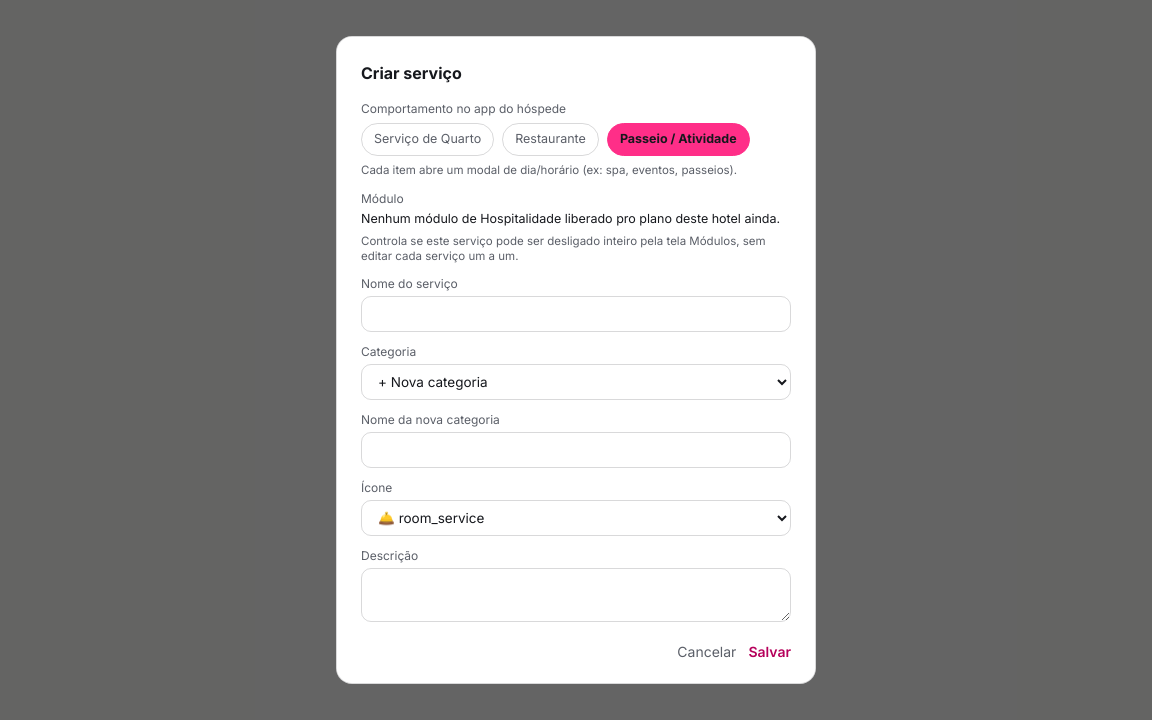
ServiceFormDialog › requires selecting a module before creating a new service
Type "Spa" into the field labelled "Nome do serviço" at [576, 314], box [361, 296, 791, 332]
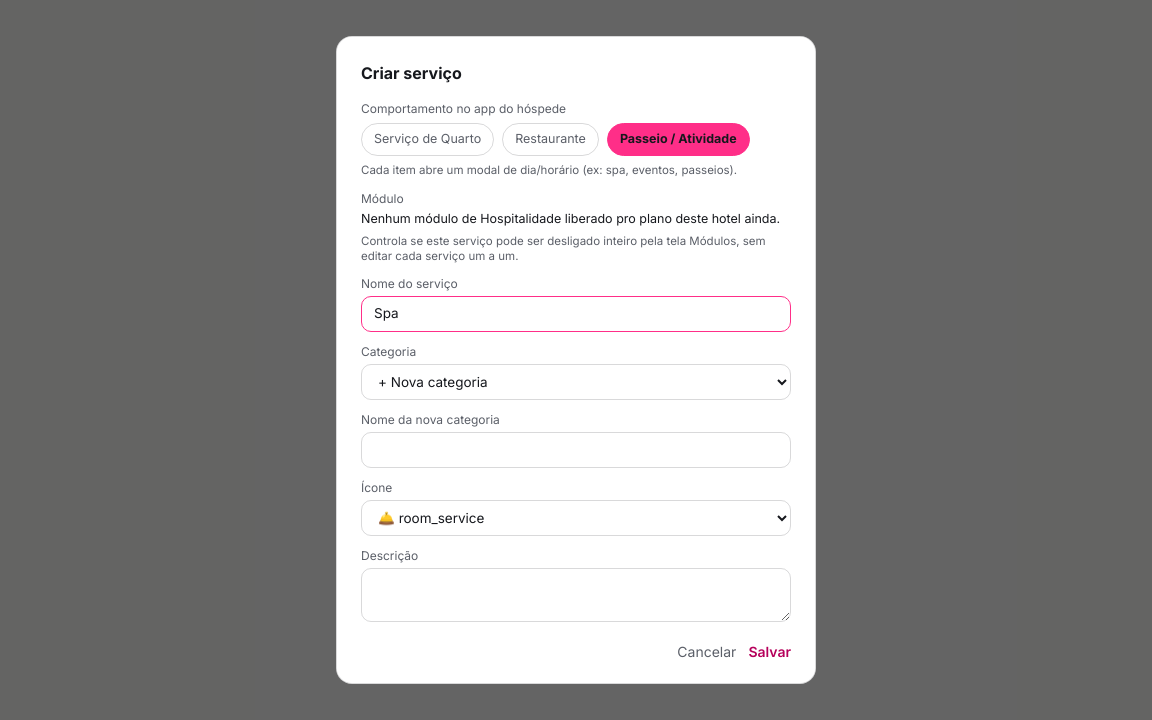
Type "Bem-estar" into the field labelled "Nome da nova categoria" at [576, 450], box [361, 432, 791, 468]
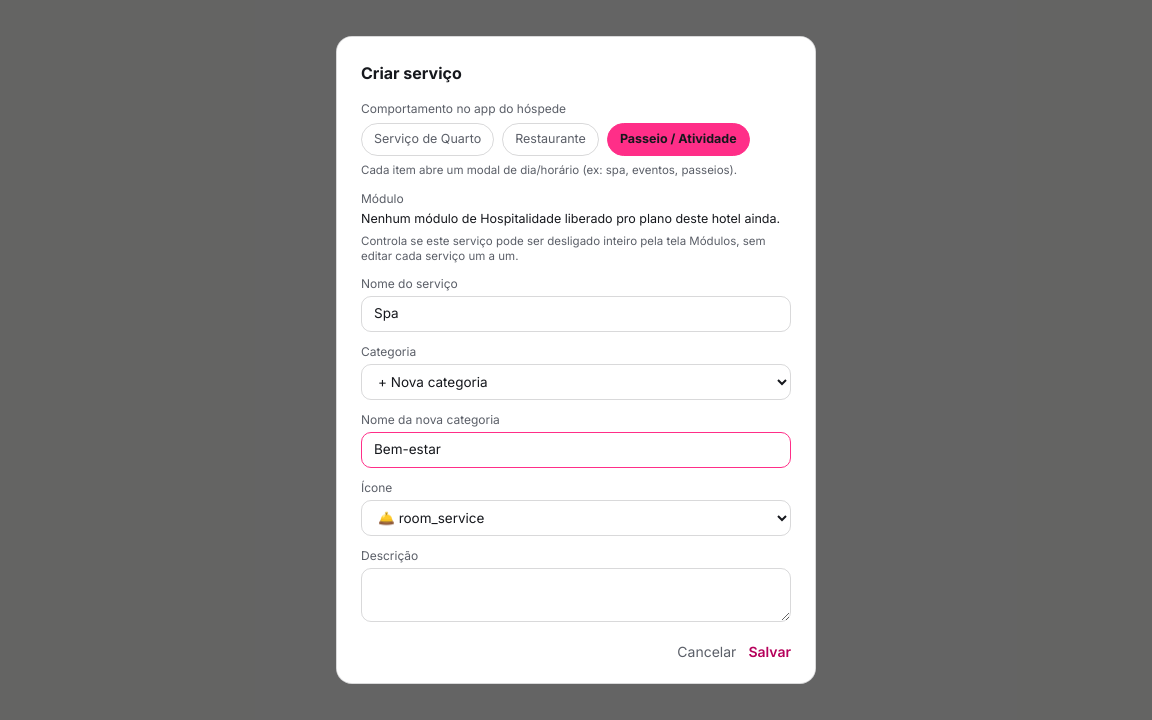
Click the button "Salvar" at [770, 652], box [748, 642, 791, 662]
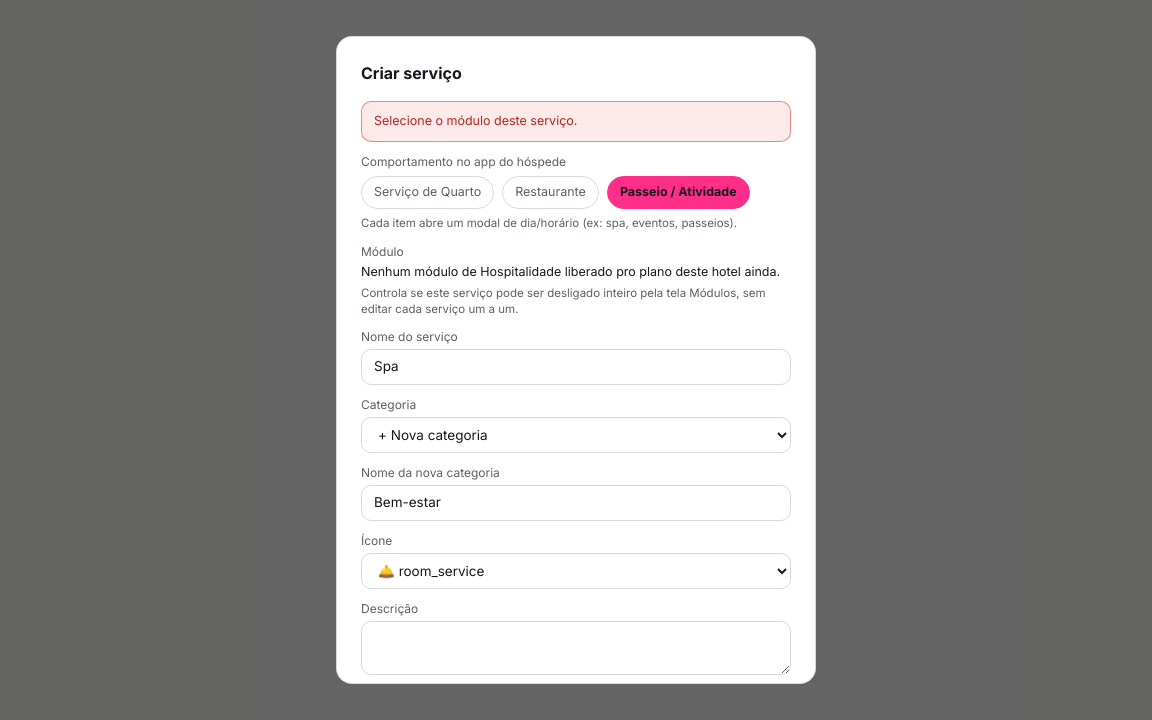
Expected: the text "Selecione o módulo deste serviço." is shown, [361, 101, 791, 142]
